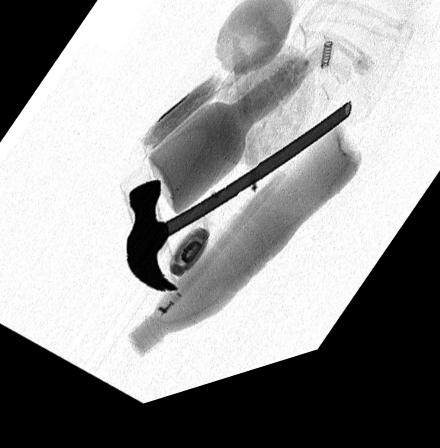Hammer: (124, 121, 351, 303)
